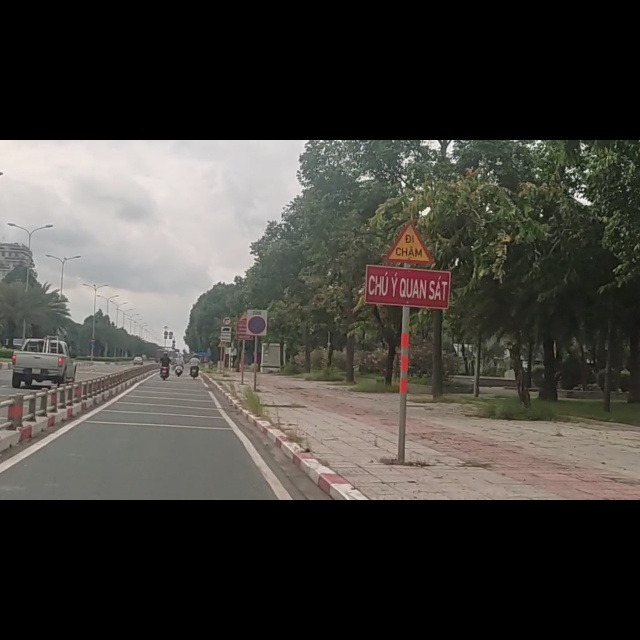bien_cam: (383, 148, 439, 220), (245, 300, 271, 354), (221, 333, 232, 359), (221, 312, 233, 331)
